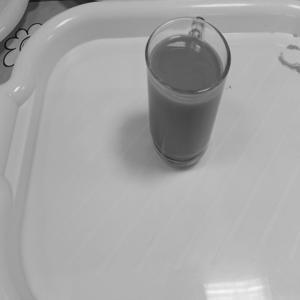coffee: (134, 14, 239, 173)
